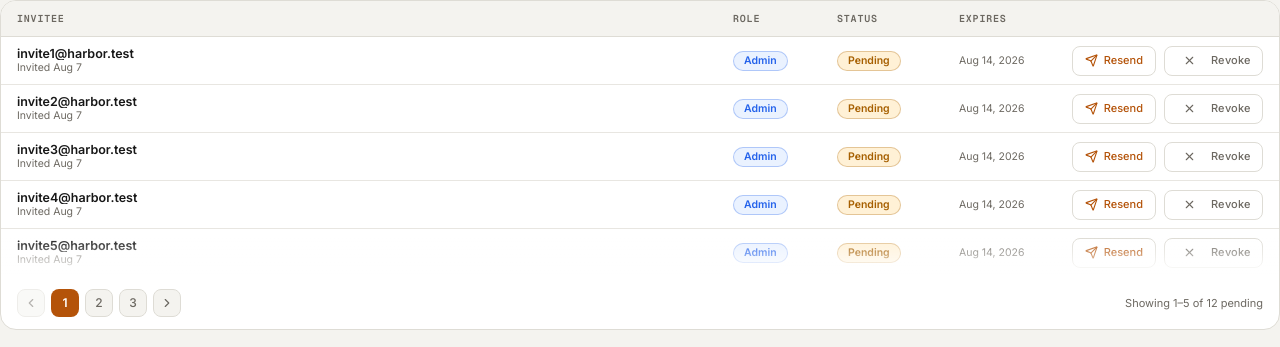
Test: PendingInvitationsTable — client-side pagination › jumps straight to a numbered page
Click the button named "go to page 3".
click(133, 303)  # box [119,289,147,317]
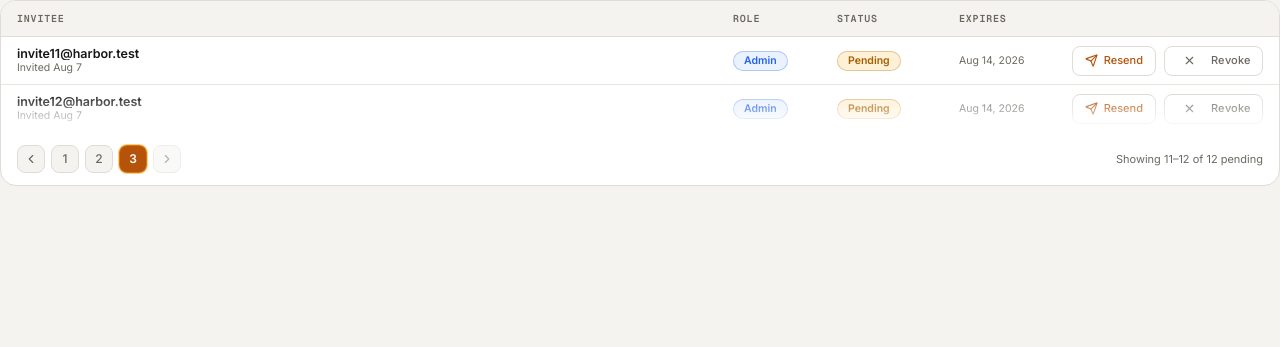
Expected: the text "invite11@harbor.test" is shown, [17,46,139,60]
Expected: the text "Showing 11–12 of 12 pending" is shown, [1116,151,1263,167]
